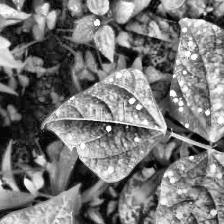Bean Rust: (40, 64, 156, 180), (169, 14, 224, 134), (149, 149, 223, 224), (0, 184, 83, 224)
